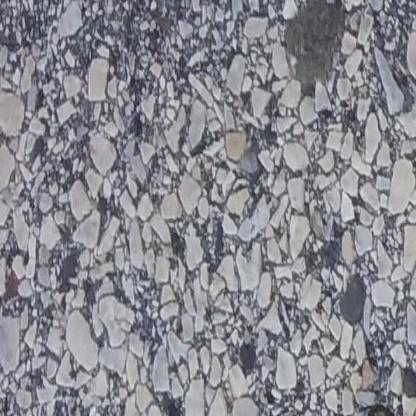Cracks: (353, 402, 416, 416)
